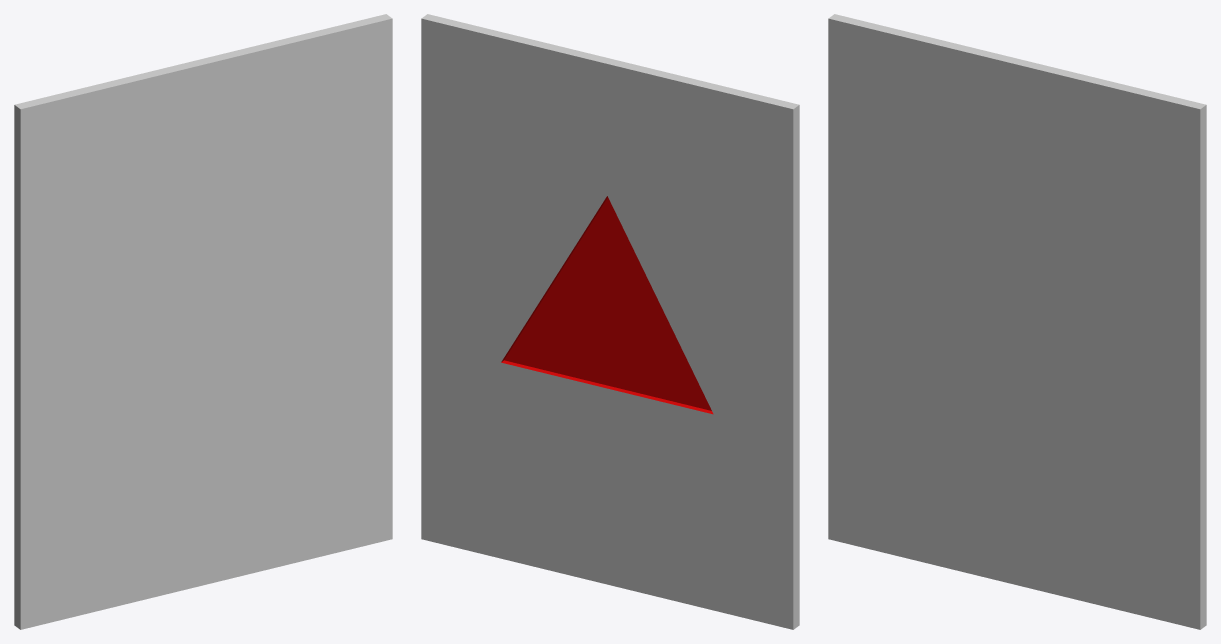
File: red_triangle.dae
The picture shows the model from 3 angles, left to right: view 1: azimuth 30°, elevation 25°; view 2: azimuth 150°, elevation 25°; view 3: azimuth 330°, elevation 25°; orthographic projection.
Parts seen in each view (by area): view 1: ShapeIndexedFaceSet; view 2: ShapeIndexedFaceSet; view 3: ShapeIndexedFaceSet.
Part boxes in pixels (<box>): ShapeIndexedFaceSet: <box>14,14,392,629</box>; ShapeIndexedFaceSet: <box>421,14,799,629</box>; ShapeIndexedFaceSet: <box>828,14,1206,629</box>.
Size of the model in its own units: 1.75 by 0.0508 by 2.34.
